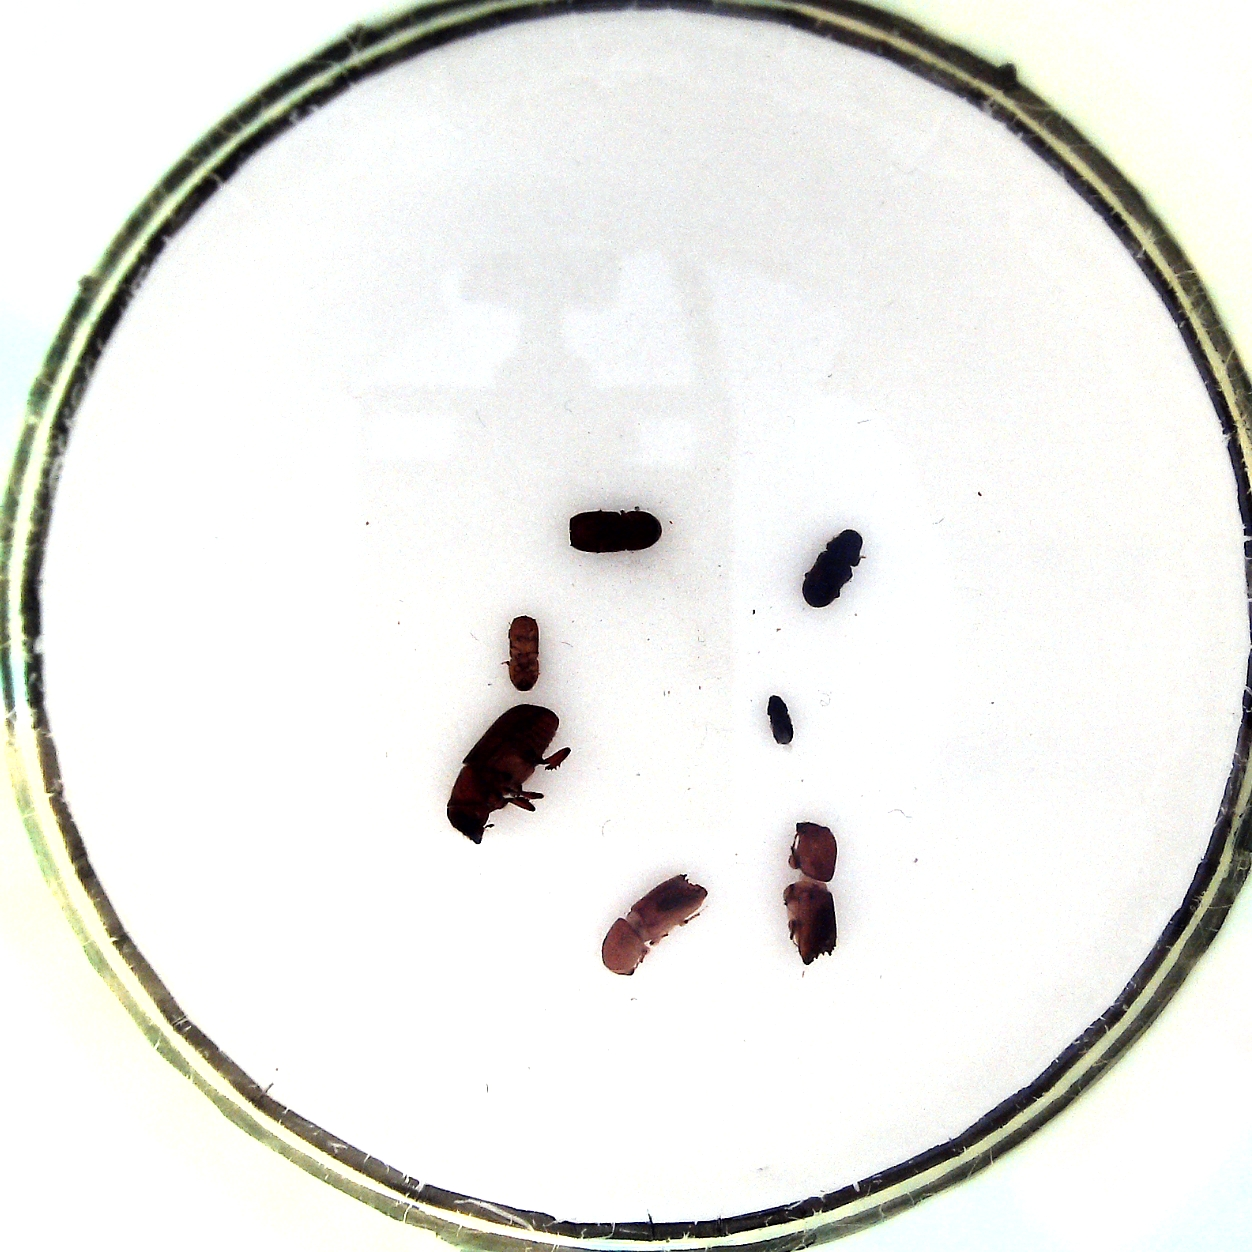Boerner: (598, 873, 711, 977), (781, 816, 844, 965)
Leconte: (440, 701, 573, 846)
Linnaeus: (568, 506, 667, 554)
acuminatus: (503, 611, 543, 692)
armandi: (796, 526, 870, 610)
coleoptera: (762, 690, 798, 751)
